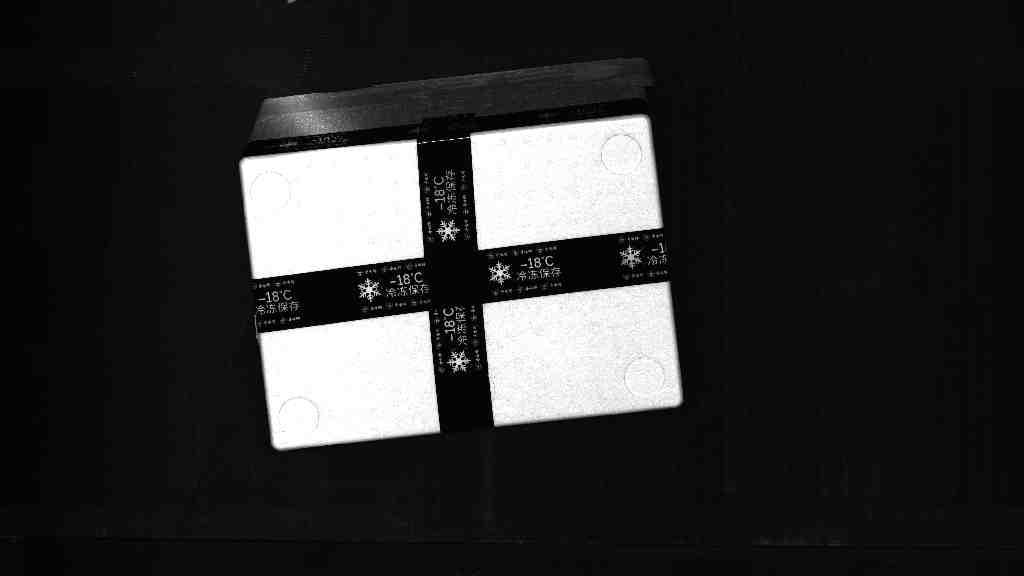box: (242, 76, 687, 455)
